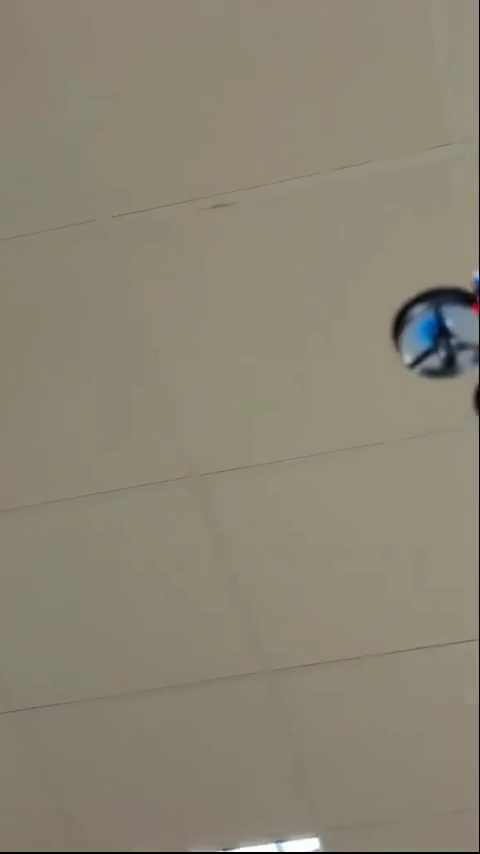drone: (391, 274, 480, 388)
